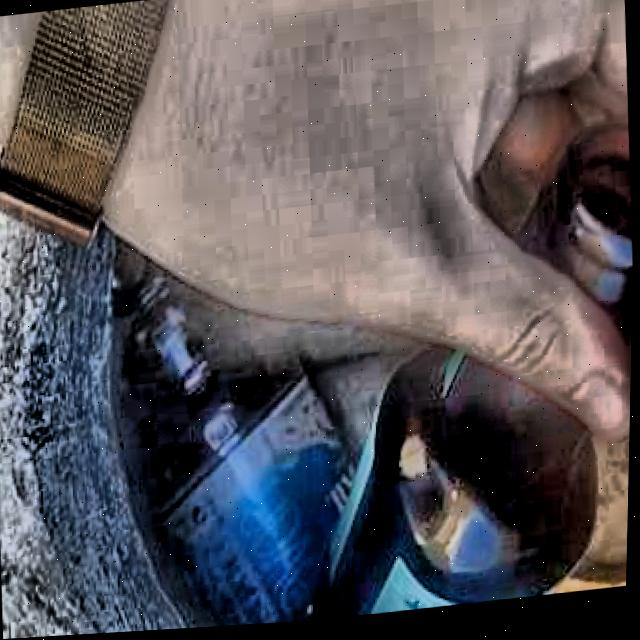glass: (327, 357, 599, 624), (521, 131, 635, 351)
